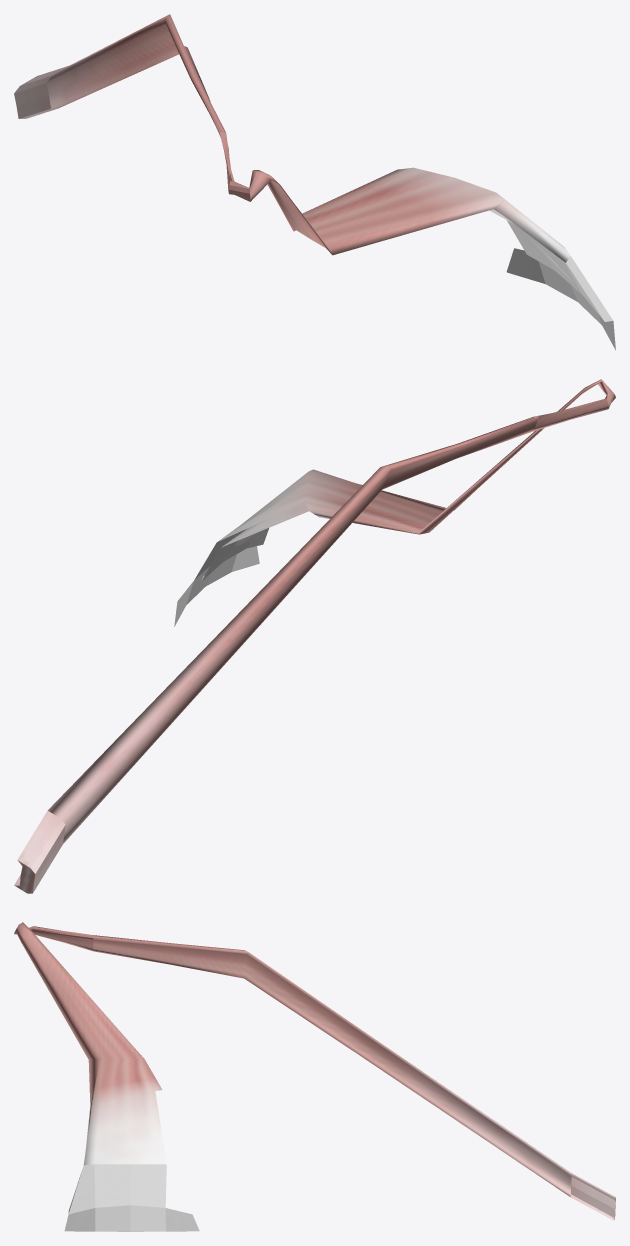
Rendered from Músculo Superior Oblicuo.FBX.
The picture shows the model from 3 angles, top to bottom: view 1: azimuth 30°, elevation 25°; view 2: azimuth 150°, elevation 25°; view 3: azimuth 270°, elevation 25°; orthographic projection. The views are drawn at different scales.
Parts seen in each view (by area): view 1: Sclera Left; view 2: Sclera Left; view 3: Sclera Left.
Part boxes in pixels (x1=…): Sclera Left: x1=14, y1=14, x2=615, y2=350; Sclera Left: x1=14, y1=379, x2=615, y2=893; Sclera Left: x1=14, y1=922, x2=615, y2=1231.
Size of the model in its own units: 0.7431 by 0.5914 by 1.45.
1 material, 1 textured.
